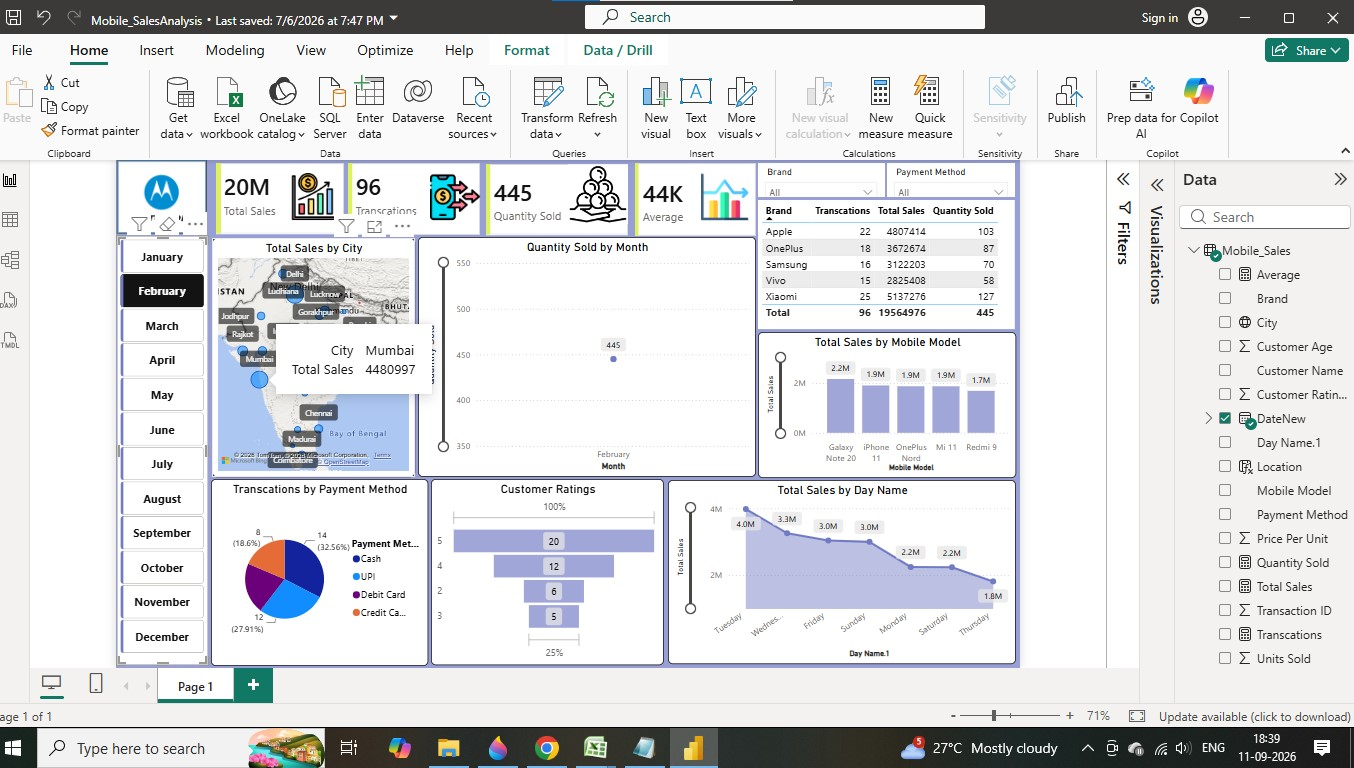

What the dashboard file says about the page in this screenshot:
{"tool":"powerbi","page":{"name":"Page 1","canvas":[1280,720],"ordinal":0},"visuals":[{"type":"cardVisual","fields":{"Data":["Mobile_Sales.Transcations"]},"box":[328.8,4.3,187.1,102],"z":0},{"type":"cardVisual","fields":{"Data":["Mobile_Sales.Toatal_Sales"]},"box":[141.7,4.3,181.4,100.6],"z":1000},{"type":"shape","box":[1.4,0,127.3,104.4],"z":2000},{"type":"image","box":[0,0,130.4,107.7],"z":3000},{"type":"advancedSlicerVisual","fields":{"Values":["Mobile_Sales.DateNew.Variation.Date Hierarchy.Month"]},"box":[1.4,107.3,128.7,607.8],"z":4000},{"type":"cardVisual","fields":{"Data":["Mobile_Sales.Average"]},"box":[735.6,4.3,171.5,103.5],"z":5000},{"type":"cardVisual","fields":{"Data":["Mobile_Sales.Qauntity Sold"]},"box":[524.4,5.7,201.3,100.6],"z":6000},{"type":"image","box":[246.6,11.3,69.4,80.8],"z":7000},{"type":"image","box":[445,4.3,70.9,97.8],"z":8000},{"type":"image","box":[640.6,0,85,96.4],"z":9000},{"type":"image","box":[829.1,11.3,66.6,82.2],"z":10000},{"type":"lineChart","fields":{"Y":["Mobile_Sales.Qauntity Sold"],"Category":["Mobile_Sales.DateNew.Variation.Date Hierarchy.Month","Mobile_Sales.DateNew.Variation.Date Hierarchy.Day"]},"box":[428,109.1,479.1,340.2],"z":11000},{"type":"clusteredColumnChart","title":"Total Sales by Mobile Model","fields":{"Category":["Mobile_Sales.Mobile Model"],"Y":["Mobile_Sales.Toatal_Sales"]},"box":[909.9,243.8,365.7,206.9],"z":12000},{"type":"pieChart","fields":{"Category":["Mobile_Sales.Payment Method"],"Y":["Mobile_Sales.Transcations"]},"box":[134.6,452.1,307.6,265],"z":13000},{"type":"funnel","title":" Customer Ratings ","fields":{"Category":["Mobile_Sales.Customer Ratings"],"Y":["CountNonNull(Mobile_Sales.Customer Ratings)"]},"box":[446.5,452.1,330.2,263.6],"z":14000},{"type":"areaChart","title":"Total Sales by Day Name","fields":{"Y":["Mobile_Sales.Total Sales"],"Category":["Mobile_Sales.Day Name.1"]},"box":[782.4,453.5,493.2,260.8],"z":15000},{"type":"tableEx","fields":{"Values":["Mobile_Sales.Brand","Mobile_Sales.Transcations","Mobile_Sales.Total Sales","Mobile_Sales.Qauntity Sold"]},"box":[909.9,56.7,364.3,182.8],"z":16000},{"type":"slicer","fields":{"Values":["Mobile_Sales.Brand"]},"box":[909.9,4.3,178.6,48.2],"z":17000},{"type":"slicer","fields":{"Values":["Mobile_Sales.Payment Method"]},"box":[1092.8,4.3,181.4,48.2],"z":18000},{"type":"map","fields":{"Category":["Mobile_Sales.City"],"Size":["Mobile_Sales.Total Sales"]},"box":[136.1,110.6,287.7,338.7],"z":19000}]}

Visuals, with their boxes on the page's 1280x720 design canvas (x1, y1, x2, y2). These are canvas units, not pixel positions in the 1354x768 screenshot, which may show the page scaled, cropped or inside an application window:
cardVisual - Mobile_Sales.Transcations: 329:4:516:106
cardVisual - Mobile_Sales.Toatal_Sales: 142:4:323:105
shape: 1:0:129:104
image: 0:0:130:108
advancedSlicerVisual - Mobile_Sales.DateNew.Variation.Date Hierarchy.Month: 1:107:130:715
cardVisual - Mobile_Sales.Average: 736:4:907:108
cardVisual - Mobile_Sales.Qauntity Sold: 524:6:726:106
image: 247:11:316:92
image: 445:4:516:102
image: 641:0:726:96
image: 829:11:896:94
lineChart - Mobile_Sales.Qauntity Sold x Mobile_Sales.DateNew.Variation.Date Hierarchy.Month: 428:109:907:449
"Total Sales by Mobile Model" clusteredColumnChart: 910:244:1276:451
pieChart - Mobile_Sales.Payment Method x Mobile_Sales.Transcations: 135:452:442:717
" Customer Ratings " funnel: 446:452:777:716
"Total Sales by Day Name" areaChart: 782:454:1276:714
tableEx - Mobile_Sales.Brand x Mobile_Sales.Transcations: 910:57:1274:240
slicer - Mobile_Sales.Brand: 910:4:1088:52
slicer - Mobile_Sales.Payment Method: 1093:4:1274:52
map - Mobile_Sales.City x Mobile_Sales.Total Sales: 136:111:424:449
